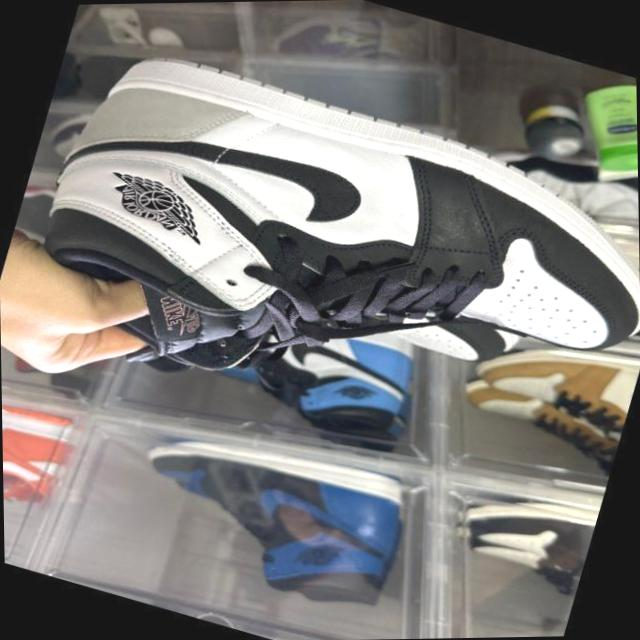nike_original_jordan: (10, 21, 640, 491)
